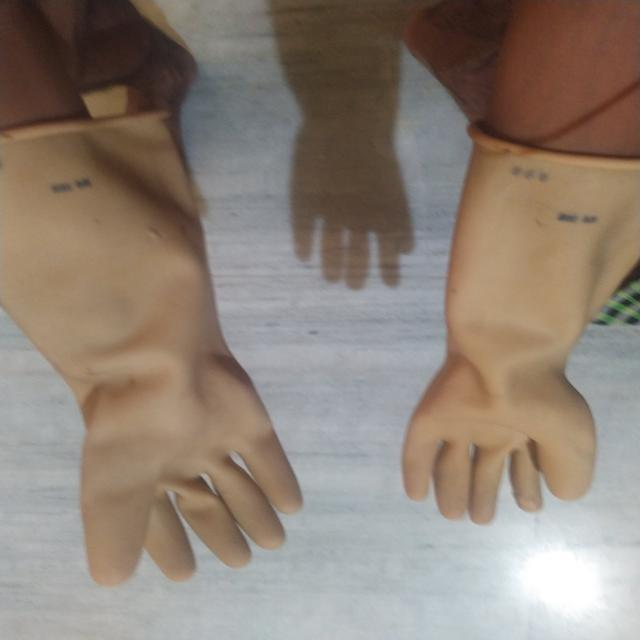glove_hand: (0, 107, 310, 594), (398, 123, 640, 532)
